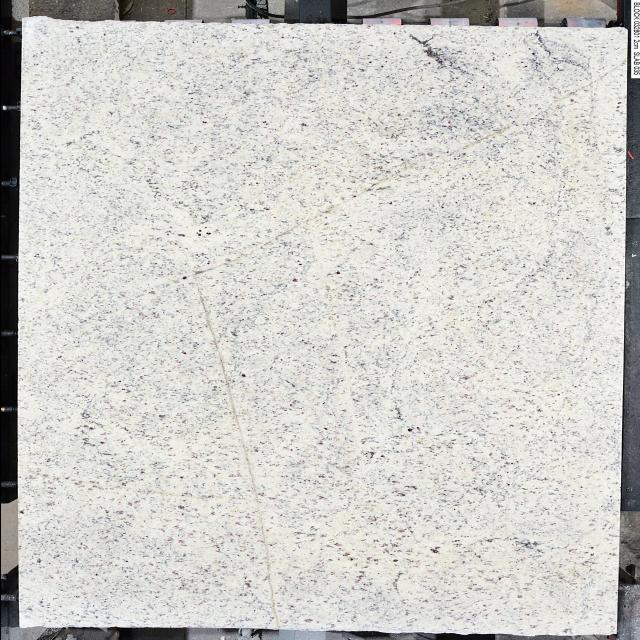chapa: (16, 16, 625, 635)
